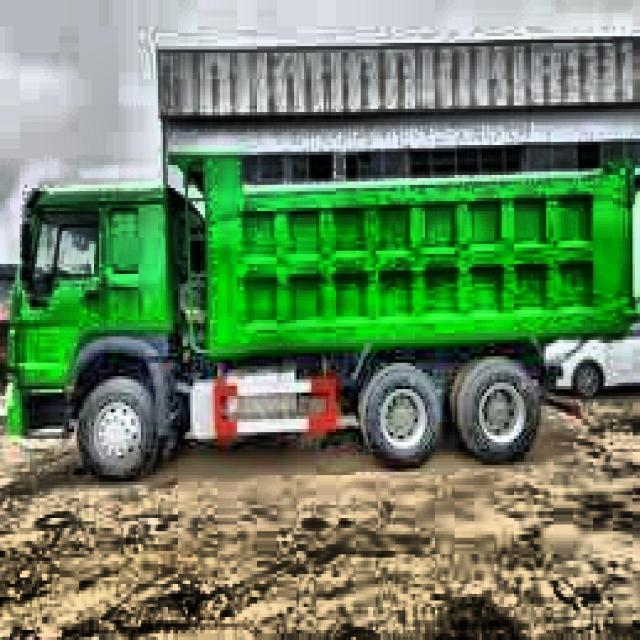dump_truck: (3, 142, 640, 472)
